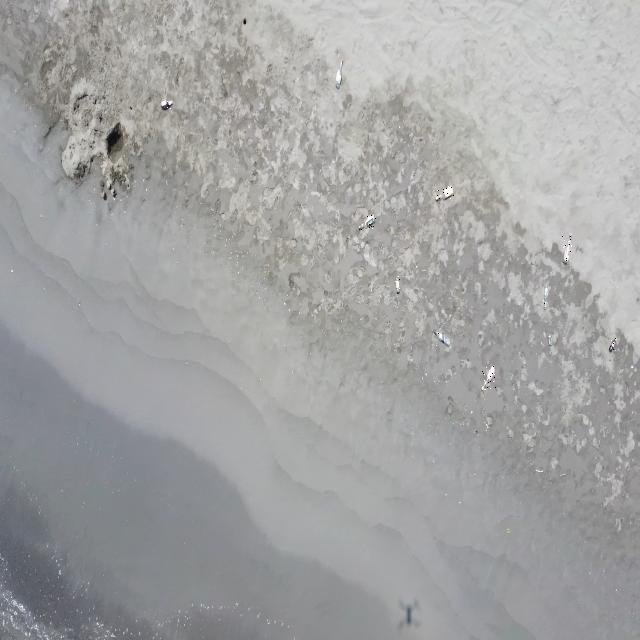glass: (482, 365, 496, 390), (435, 186, 455, 201), (562, 234, 572, 264), (334, 58, 344, 87), (358, 214, 376, 230), (433, 332, 452, 347), (161, 100, 174, 110), (609, 337, 617, 352), (543, 285, 548, 309), (395, 276, 400, 294)
